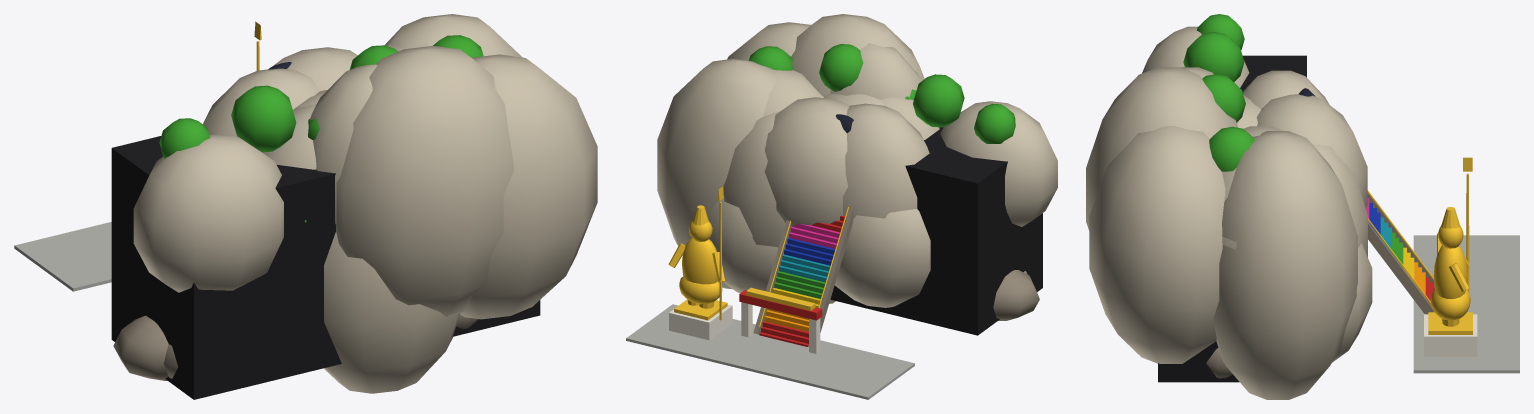
Rendered from env_lm2_batu_caves.fbx.
3 views of the same model, side by side, from view 1: azimuth 30°, elevation 25°; view 2: azimuth 150°, elevation 25°; view 3: azimuth 270°, elevation 25° (orthographic). The views are drawn at different scales.
Parts seen in each view (by area): view 1: env_lm2_batu_caves_geo_LOD0, COL_env_lm2_batu_caves; view 2: env_lm2_batu_caves_geo_LOD0, COL_env_lm2_batu_caves; view 3: env_lm2_batu_caves_geo_LOD0, COL_env_lm2_batu_caves.
Boxes of the visible parts, x1,y1,x2,y2 form: env_lm2_batu_caves_geo_LOD0: [14, 14, 597, 393]; COL_env_lm2_batu_caves: [111, 136, 540, 399]; env_lm2_batu_caves_geo_LOD0: [626, 14, 1057, 399]; COL_env_lm2_batu_caves: [830, 127, 1042, 335]; env_lm2_batu_caves_geo_LOD0: [1086, 14, 1519, 399]; COL_env_lm2_batu_caves: [1158, 55, 1306, 382].
Size of what is drawn, in the model's own units: 43.25 by 31.86 by 40.76.
